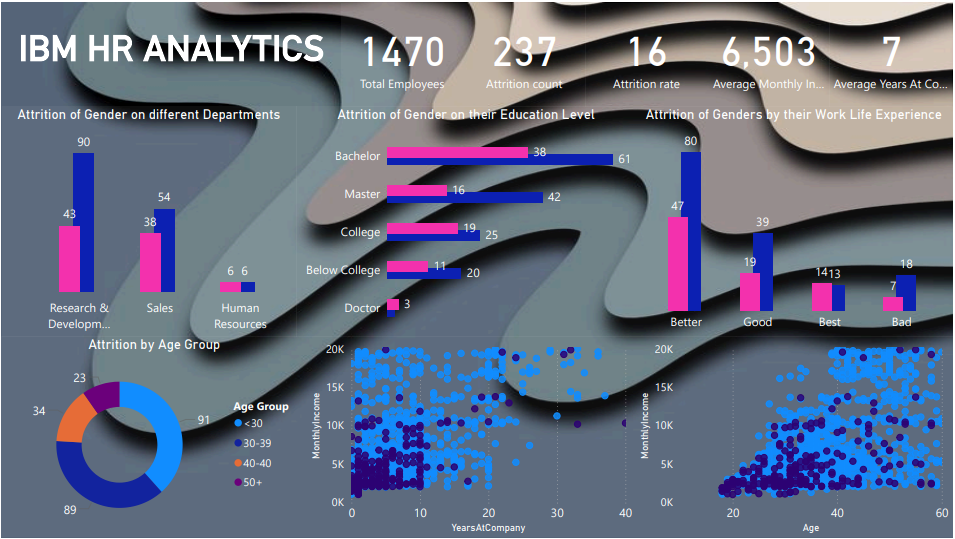

The dashboard page shown, as its layout file describes it:
{"tool":"powerbi","page":{"name":"Page 1","canvas":[1280,720],"ordinal":0},"visuals":[{"type":"card","fields":{"Values":["HR analyst.Total Employees"]},"box":[457,0,164.6,101.4],"z":0},{"type":"card","fields":{"Values":["HR analyst.Attrition rate"]},"box":[786.1,0,164.6,101.4],"z":1000},{"type":"card","fields":{"Values":["HR analyst.Attrition count"]},"box":[621.6,0,164.6,101.4],"z":2000},{"type":"card","fields":{"Values":["HR analyst.Average Monthly Income"]},"box":[950.7,0,164.6,101.4],"z":3000},{"type":"card","fields":{"Values":["HR analyst.Average Years At Company"]},"box":[1115.3,0,164.6,101.4],"z":4000},{"type":"clusteredColumnChart","title":"Attrition of Gender on different Departments","fields":{"Category":["HR analyst.Department"],"Y":["HR analyst.Attrition count"],"Series":["HR analyst.Gender"]},"box":[411.4,101.4,423.2,276.2],"z":5000},{"type":"clusteredColumnChart","title":"Attrition of Genders by their Work Life Experience","fields":{"Y":["HR analyst.Attrition count"],"Category":["HR analyst.WorkLifeBalance"],"Series":["HR analyst.Gender"]},"box":[844.9,101.4,434.9,276.2],"z":6000},{"type":"clusteredBarChart","title":"Attrition of Gender on their Education Level","fields":{"Category":["HR analyst.Education"],"Y":["HR analyst.Attrition count"],"Series":["HR analyst.Gender"]},"box":[0,101.4,399.7,302.7],"z":7000},{"type":"donutChart","title":"Attrition by Age Group","fields":{"Category":["HR analyst.Age Group"],"Y":["HR analyst.Attrition count"]},"box":[0,415.8,399.7,304.2],"z":8000},{"type":"scatterChart","fields":{"Y":["HR analyst.MonthlyIncome"],"X":["HR analyst.YearsAtCompany"],"Series":["HR analyst.Attrition"]},"box":[411.4,387.9,423.2,332.1],"z":9000},{"type":"scatterChart","fields":{"Y":["HR analyst.MonthlyIncome"],"Series":["HR analyst.Attrition"],"X":["HR analyst.Age"]},"box":[844.9,387.9,434.9,332.1],"z":10000},{"type":"textbox","box":[0,14.7,457,73.5],"z":11000}]}

Visuals, with their boxes in screenshot pixels (x1, y1, x2, y2), scaled from the page's 1280x720 canvas onto the 955x539 screenshot:
card - HR analyst.Total Employees: bbox=[341, 0, 464, 76]
card - HR analyst.Attrition rate: bbox=[587, 0, 709, 76]
card - HR analyst.Attrition count: bbox=[464, 0, 587, 76]
card - HR analyst.Average Monthly Income: bbox=[709, 0, 832, 76]
card - HR analyst.Average Years At Company: bbox=[832, 0, 954, 76]
"Attrition of Gender on different Departments" clusteredColumnChart: bbox=[307, 76, 623, 283]
"Attrition of Genders by their Work Life Experience" clusteredColumnChart: bbox=[630, 76, 954, 283]
"Attrition of Gender on their Education Level" clusteredBarChart: bbox=[0, 76, 298, 303]
"Attrition by Age Group" donutChart: bbox=[0, 311, 298, 538]
scatterChart - HR analyst.MonthlyIncome x HR analyst.YearsAtCompany: bbox=[307, 290, 623, 538]
scatterChart - HR analyst.MonthlyIncome x HR analyst.Attrition: bbox=[630, 290, 954, 538]
textbox: bbox=[0, 11, 341, 66]
